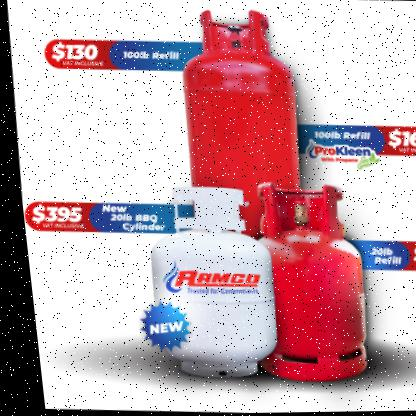gas-tank: (147, 0, 326, 256), (123, 177, 284, 390), (239, 175, 384, 389)
